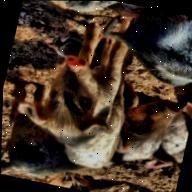boar: (0, 67, 189, 192), (20, 31, 151, 184)
